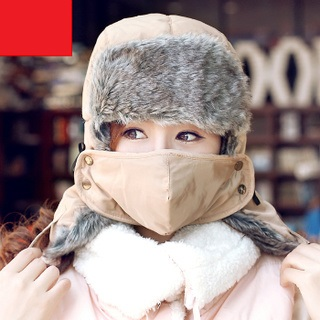face_mask: (107, 86, 221, 227)
